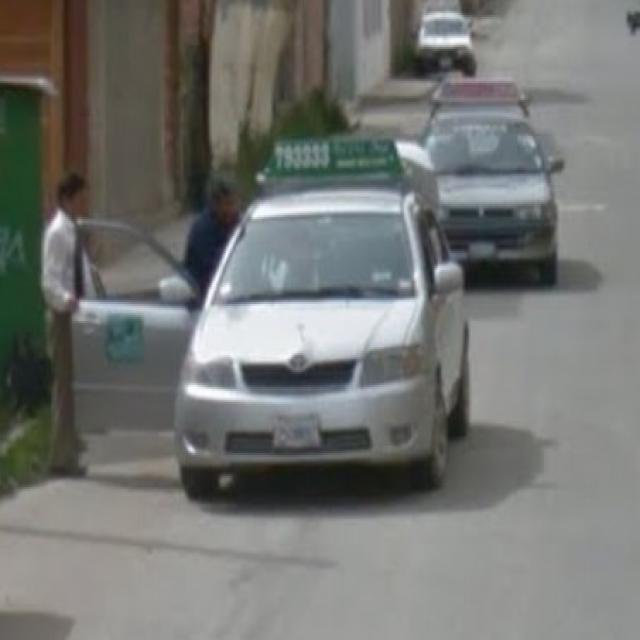Car: (180, 168, 455, 479), (428, 77, 560, 259), (397, 0, 487, 76), (468, 474, 481, 481)
